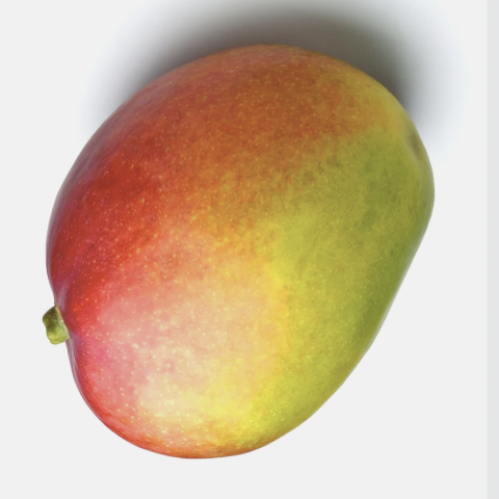mango: (8, 25, 469, 491)
